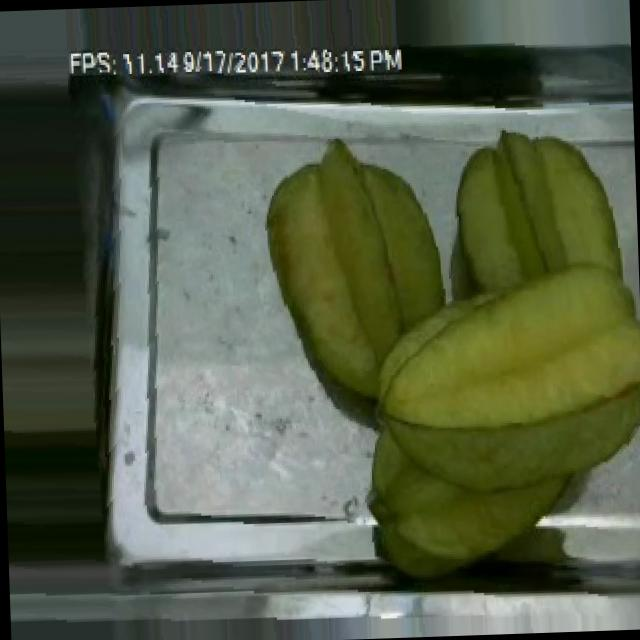fruit: (354, 253, 640, 549), (254, 136, 461, 416), (441, 120, 638, 321)
